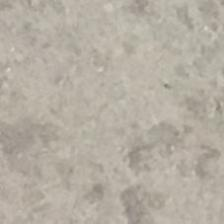Non_Crack: (29, 23, 224, 224)
